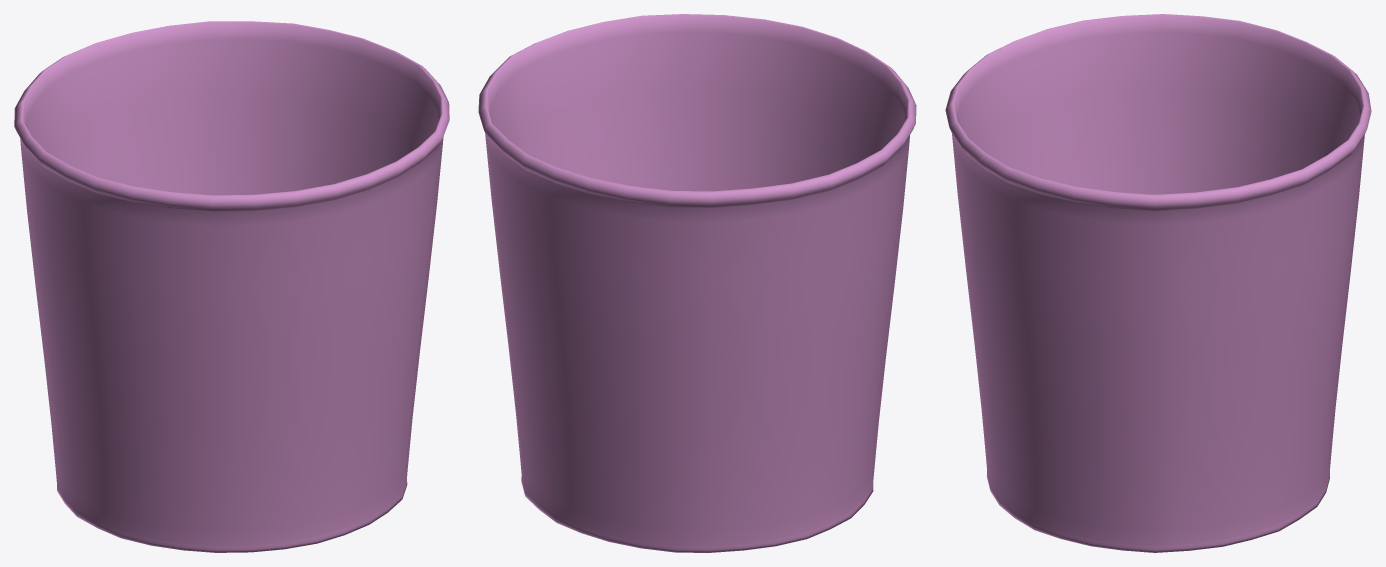
The model's file is backet2.glb.
3 views of the same model, side by side, from view 1: azimuth 30°, elevation 25°; view 2: azimuth 150°, elevation 25°; view 3: azimuth 270°, elevation 25° (orthographic).
Visible parts, largest first — view 1: bucket_bucket.Material_0.002; view 2: bucket_bucket.Material_0.002; view 3: bucket_bucket.Material_0.002.
Boxes of the visible parts, left/top/right/bottom form: bucket_bucket.Material_0.002: left=14, top=21, right=449, bottom=552; bucket_bucket.Material_0.002: left=478, top=14, right=916, bottom=552; bucket_bucket.Material_0.002: left=945, top=14, right=1371, bottom=552.
Bounding box in the file's own units: 0.2177 × 0.2255 × 0.2097.
